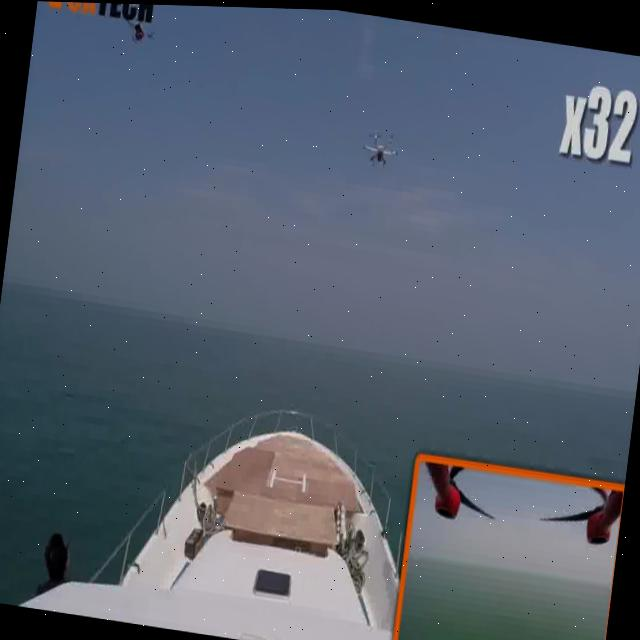drone: (356, 116, 402, 169)
